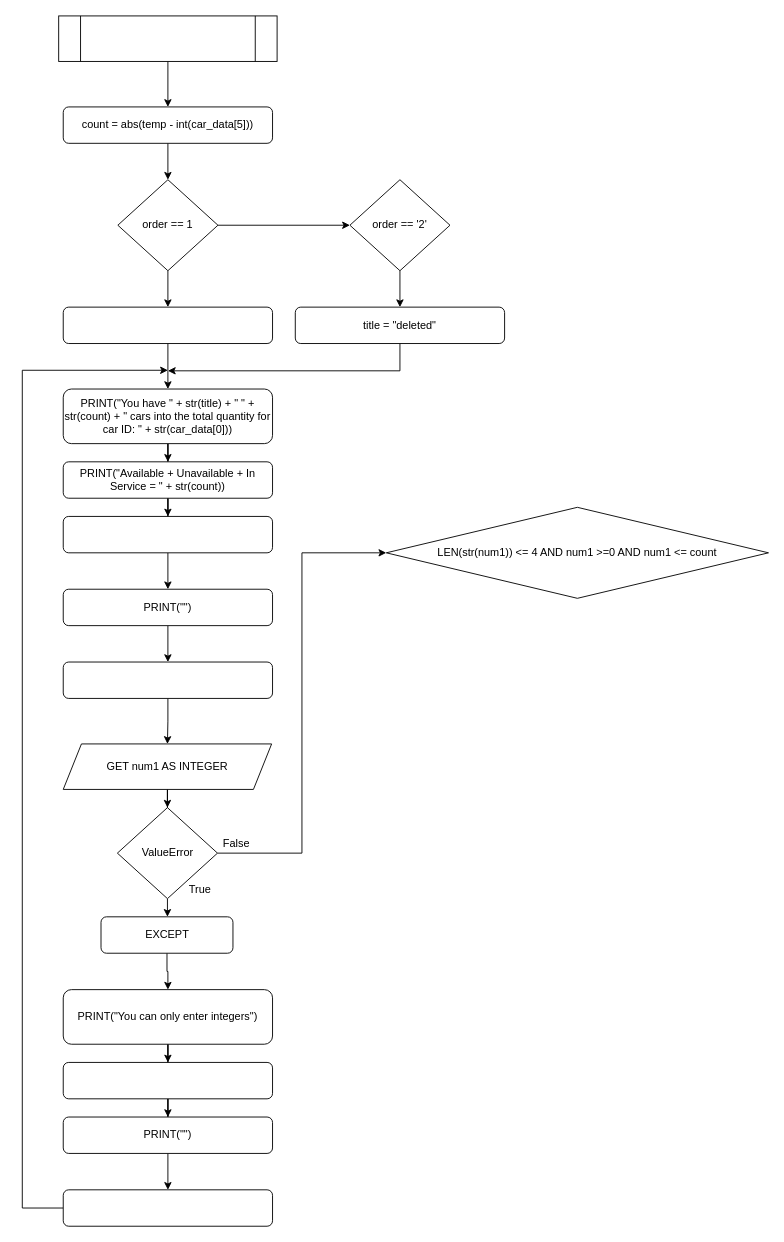
Image size: 784x1242. Some labels were removed from this diagram. Each missing label, with the centre of its shape:
CONTINUE: [167,1207]
FUNCTION sub_total_quantity_menu1(temp, car_data, order): [167,38]
PRINT("Please enter again"): [167,1080]
PRINT("Please enter the quantity for each section below: "): [167,534]
PROMPT "Available : ": [167,679]
title = "added": [167,325]
